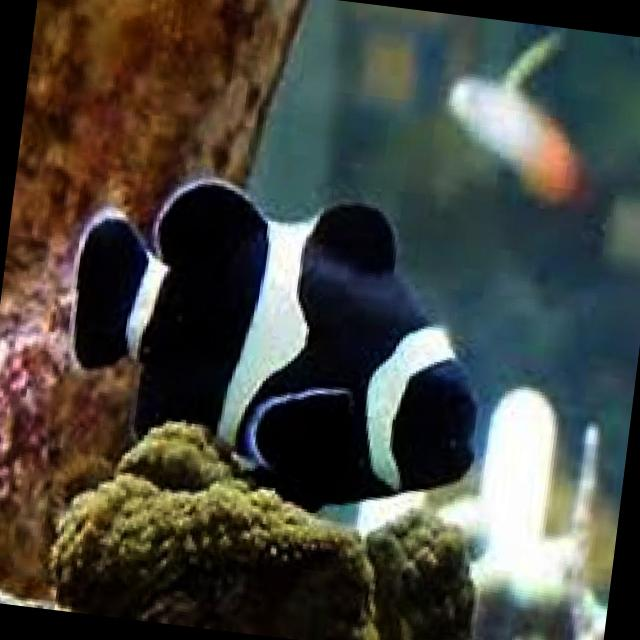ClownFish: (49, 168, 503, 521)
